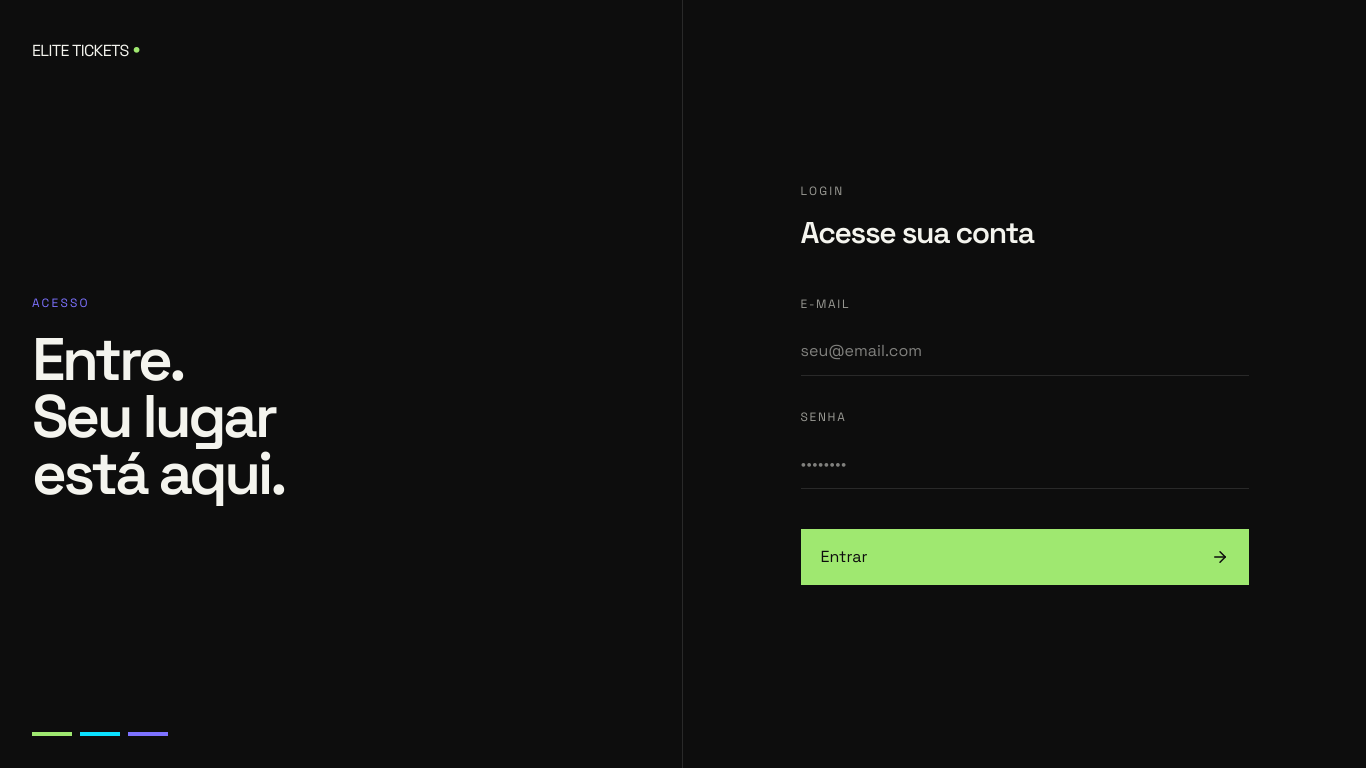
Scenario: LoginPage › mostra erro quando o login falha
Type "teste@elite.dev" into the field labelled "E-mail".
click(1024, 352); type("teste@elite.dev")  # box [800,327,1248,376]
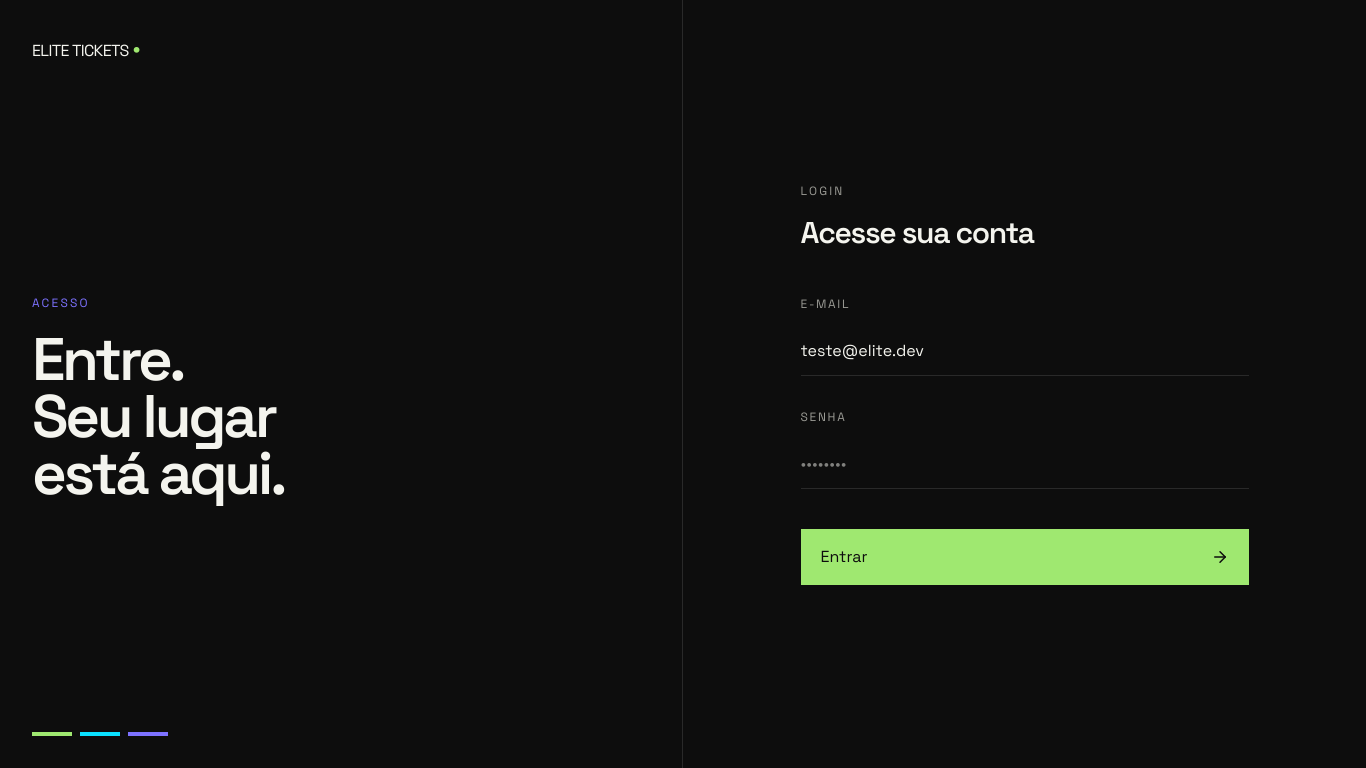
Type "senhaerrada" into the password field labelled "Senha".
click(1024, 464); type("senhaerrada")  # box [800,440,1248,489]
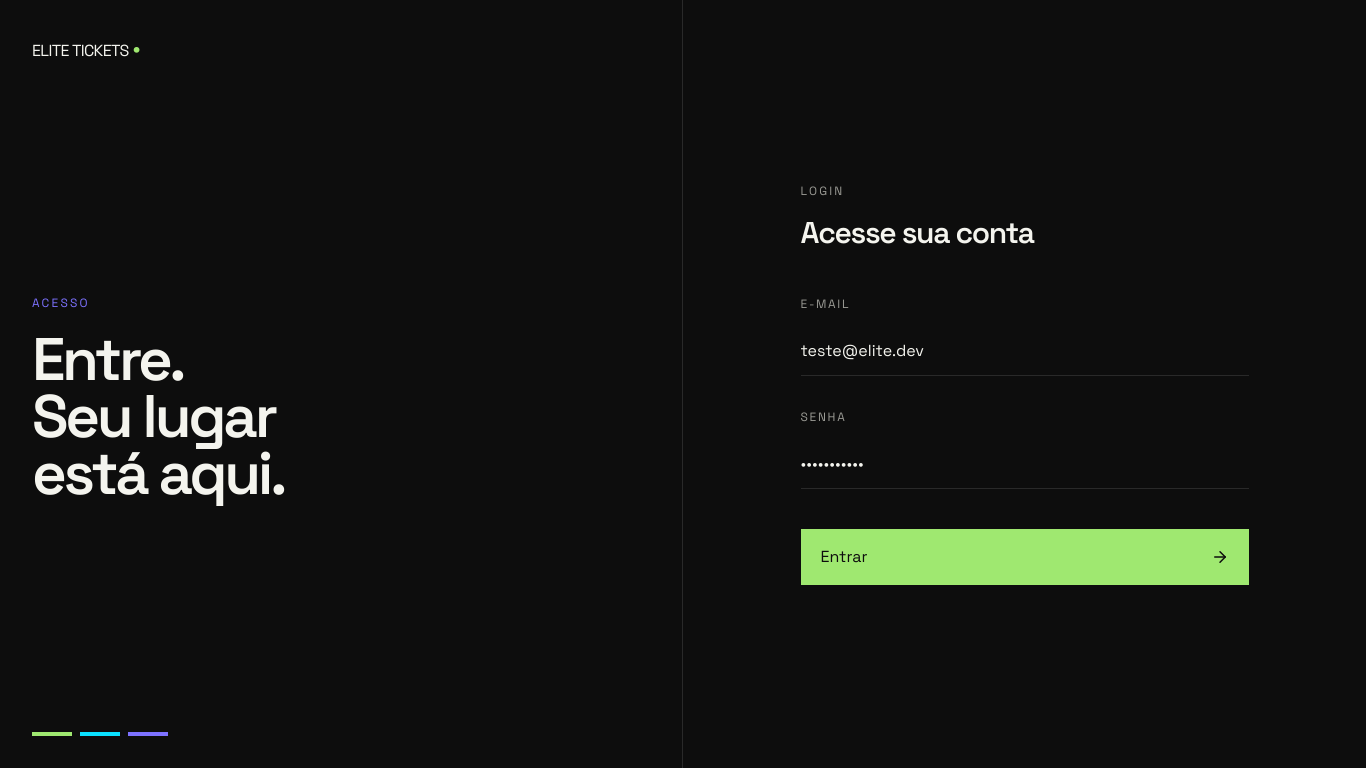
Click the button "Entrar".
click(844, 556)  # box [800,529,1248,585]
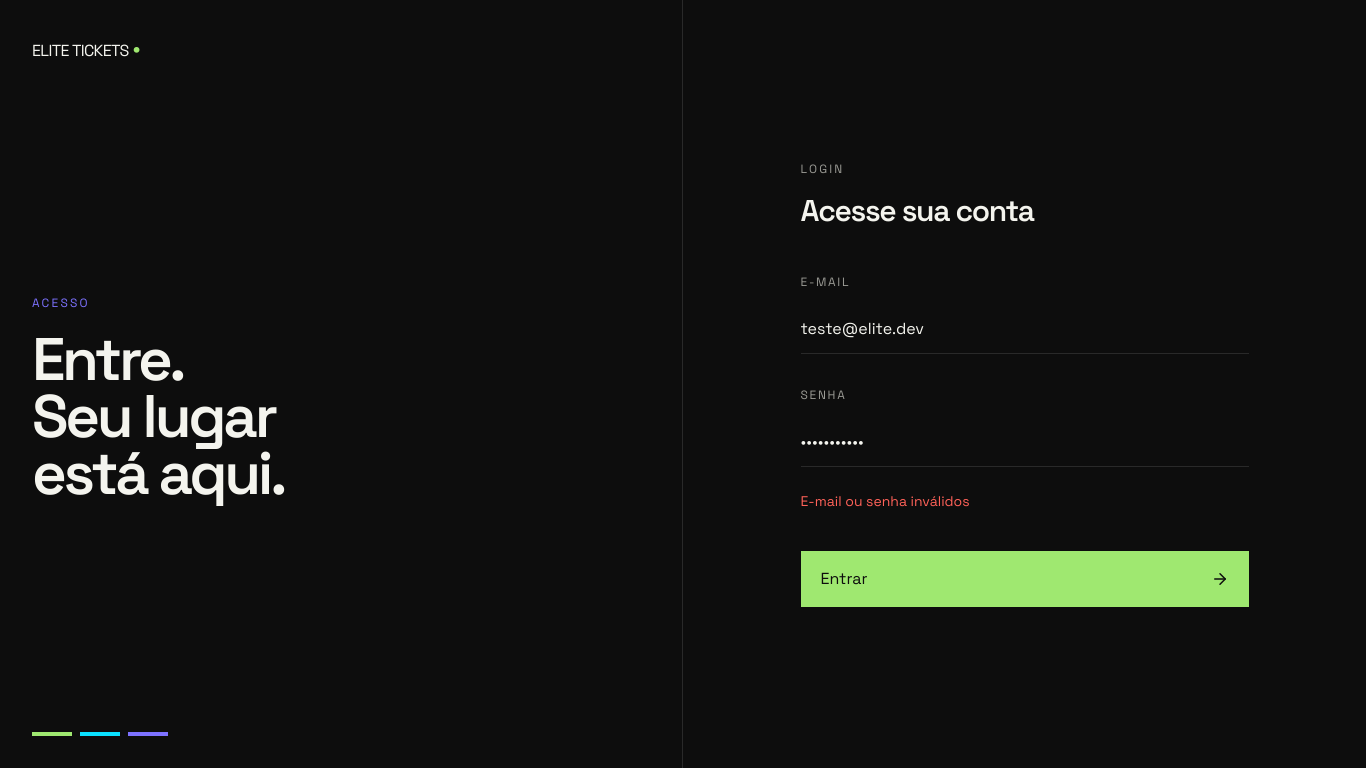
expect the text "E-mail ou senha inválidos" is shown: met, box [800,492,970,510]
